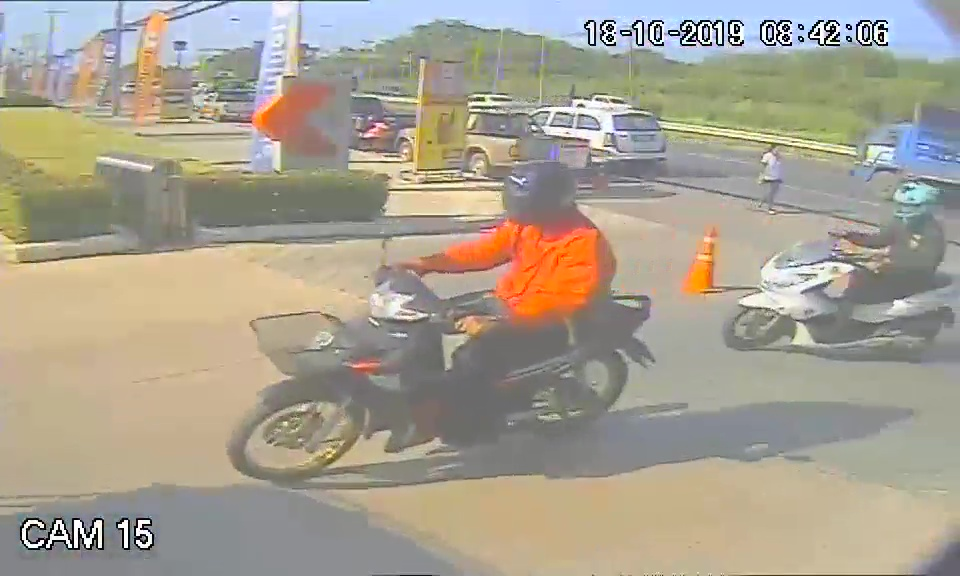motorcycle: (226, 262, 663, 485), (726, 233, 960, 378)
